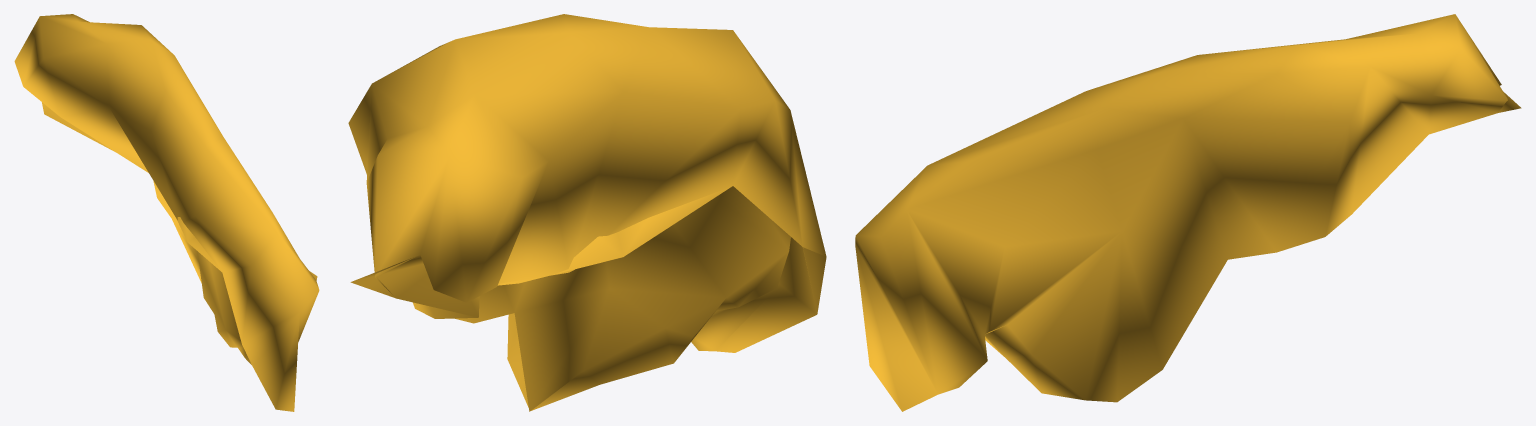
Rendered from nervoso-inferior-temporal-sulcus-r.glb.
The picture shows the model from 3 angles, left to right: view 1: azimuth 30°, elevation 25°; view 2: azimuth 150°, elevation 25°; view 3: azimuth 270°, elevation 25°; orthographic projection. The views are drawn at different scales.
Visible parts, largest first — view 1: Inferior temporal sulcus.r; view 2: Inferior temporal sulcus.r; view 3: Inferior temporal sulcus.r.
Part boxes in pixels (<box>): Inferior temporal sulcus.r: <box>14,14,319,411</box>; Inferior temporal sulcus.r: <box>348,14,826,411</box>; Inferior temporal sulcus.r: <box>855,14,1521,411</box>.
Size of the model in its own units: 0.011 by 0.0201 by 0.033.
